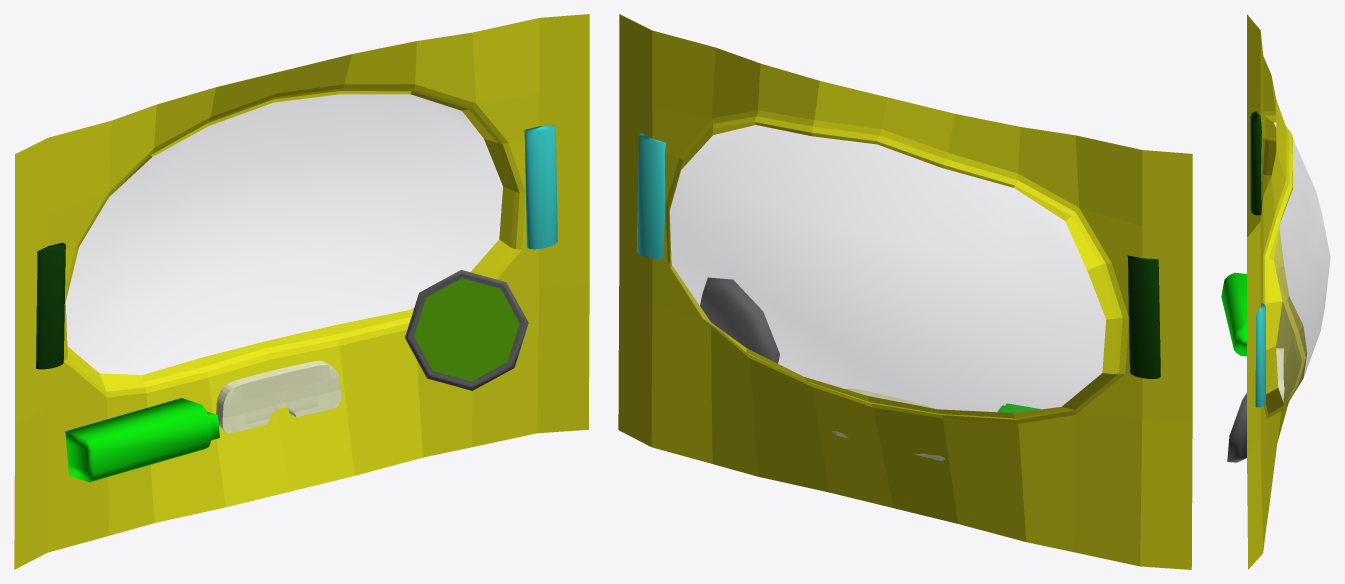
The model's file is InsideSub_014.fbx.
3 views of the same model, side by side, from view 1: azimuth 30°, elevation 25°; view 2: azimuth 150°, elevation 25°; view 3: azimuth 270°, elevation 25° (orthographic). The views are drawn at different scales.
Visible parts, largest first — view 1: Plane, radar, Cube, Plane.001, Cylinder.002, Cylinder.001; view 2: Plane, Cylinder.001, radar, Cylinder.002; view 3: Plane, Cube, Cylinder.001, Cylinder.002, radar, Plane.001.
Part boxes in pixels (<box>): Plane: <box>14,14,589,569</box>; radar: <box>405,270,528,390</box>; Cube: <box>65,398,219,482</box>; Plane.001: <box>216,360,341,433</box>; Cylinder.002: <box>524,125,557,249</box>; Cylinder.001: <box>36,242,65,369</box>; Plane: <box>618,14,1192,569</box>; Cylinder.001: <box>1127,255,1160,378</box>; radar: <box>700,277,779,363</box>; Cylinder.002: <box>636,133,665,258</box>; Plane: <box>1247,14,1330,569</box>; Cube: <box>1221,272,1246,356</box>; Cylinder.001: <box>1250,111,1261,215</box>; Cylinder.002: <box>1255,303,1265,407</box>; radar: <box>1227,393,1246,462</box>; Plane.001: <box>1276,348,1284,402</box>.
Bounding box in the file's own units: 530 × 367 × 109.
